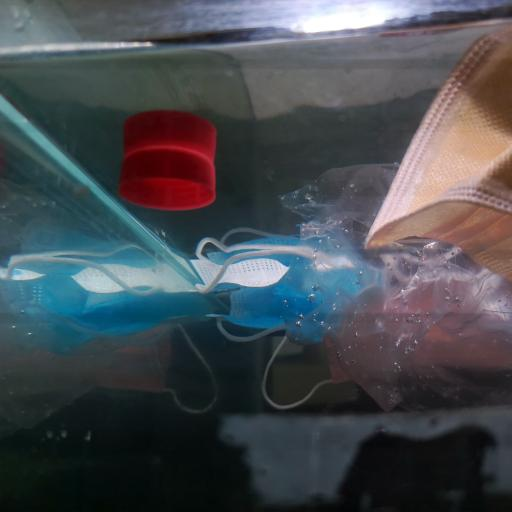bottle_cap: (120, 150, 218, 209)
mask: (362, 40, 512, 276), (204, 238, 376, 343)
plastic_bag: (277, 164, 511, 417)
